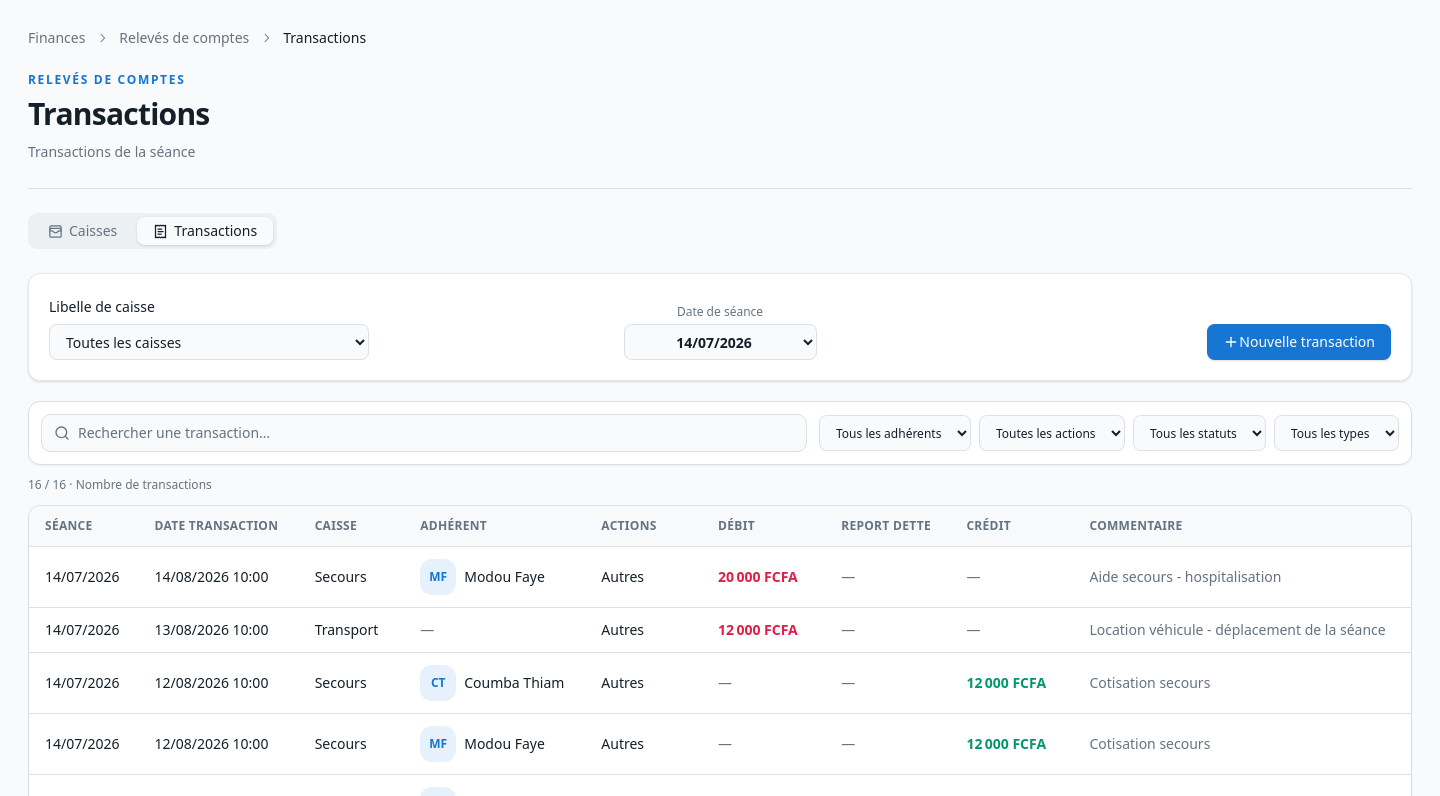
Saisie rapide — parcours depuis l’onglet Transactions › « Nouvelle transaction » ouvre directement la saisie rapide : caisse à choisir, séance héritée (lecture seule), date/heure système
Check: the dropdown labelled "Date de séance" shows "14/07/2026", box [624,324,816,360]
Click the button "Nouvelle transaction": (1299, 342) [1207,324,1391,360]
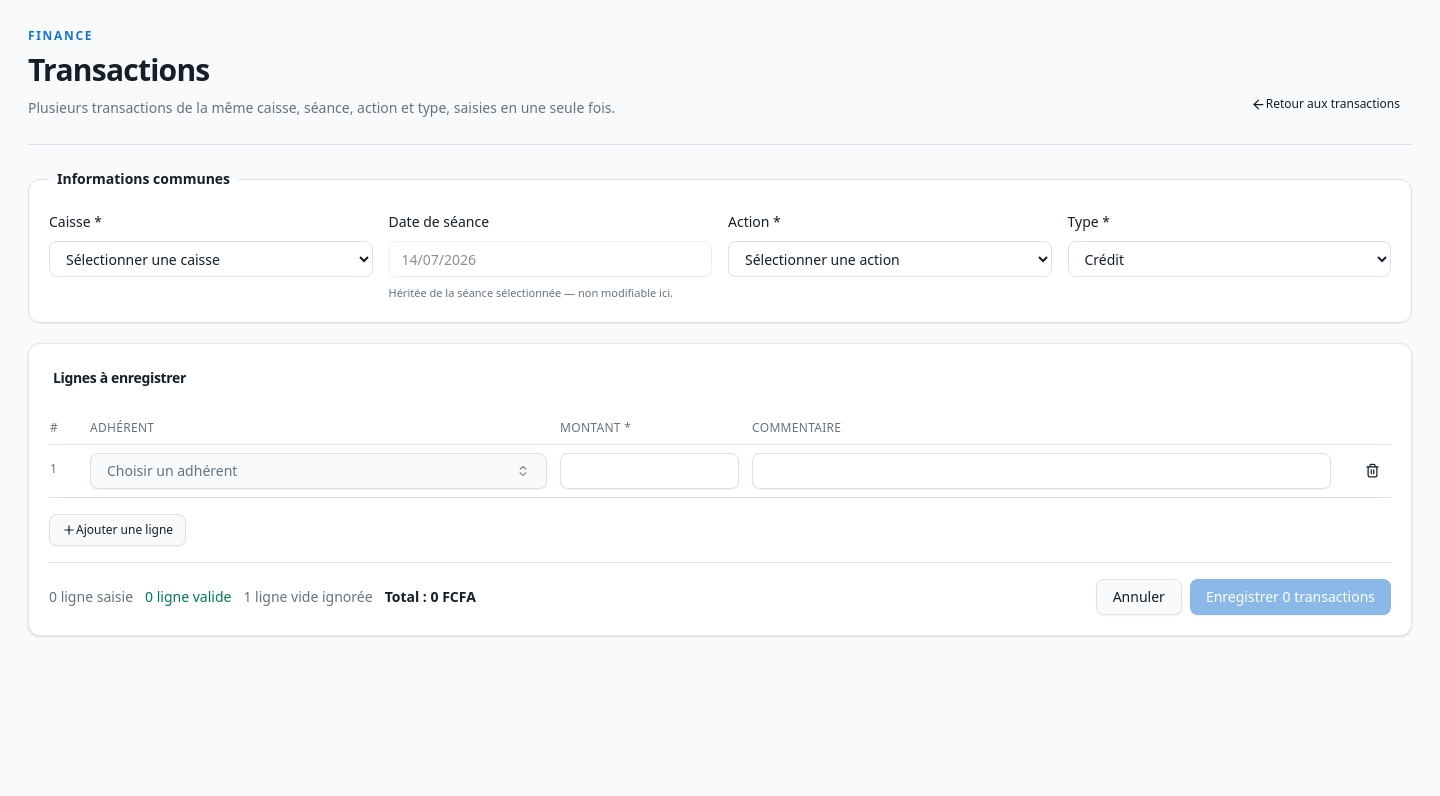
Check: the dropdown labelled "Caisse *" shows "Sélectionner une caisse", box [49,241,372,277]
Check: the dropdown labelled "Caisse *" is enabled, box [49,241,372,277]
Check: the dropdown labelled "Action *" is shown, box [728,241,1052,277]
